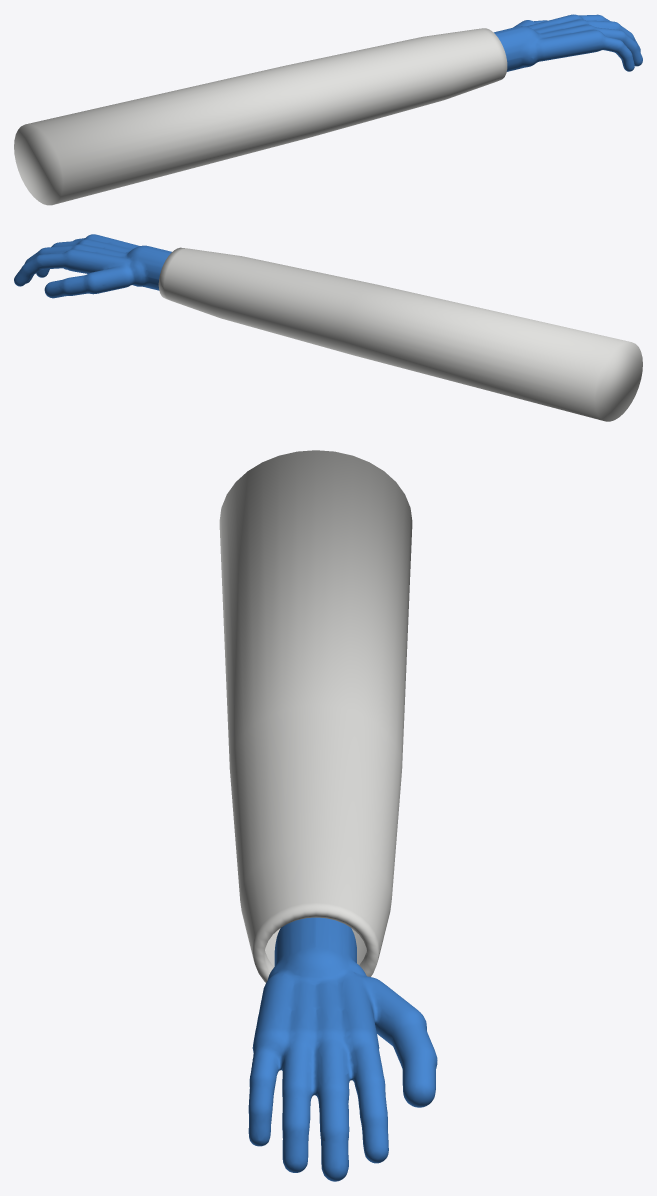
The model's file is SM_Hand_R.glb.
3 views of the same model, one above another, from view 1: azimuth 30°, elevation 25°; view 2: azimuth 150°, elevation 25°; view 3: azimuth 270°, elevation 25° (orthographic). The views are drawn at different scales.
Visible parts, largest first — view 1: SM_Hand_R; view 2: SM_Hand_R; view 3: SM_Hand_R.
Boxes of the visible parts, <box> form: SM_Hand_R: <box>14,14,642,205</box>; SM_Hand_R: <box>14,234,642,421</box>; SM_Hand_R: <box>219,450,437,1181</box>.
Size of the model in its own units: 0.7973 by 0.0991 by 0.1265.
